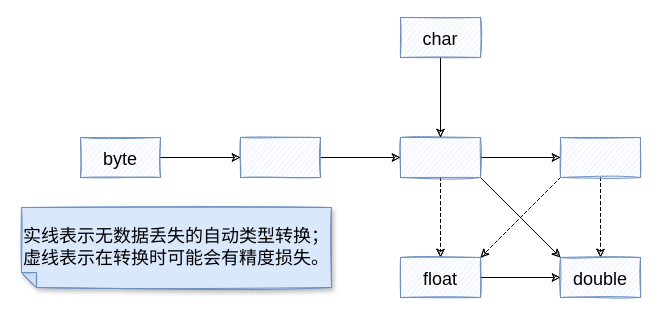
Image size: 658x315. Some labels were removed from this diagram. Each missing label, with the centre of its shape:
"int" belongs at pixel 440 157.
"long" belongs at pixel 600 157.
"short" belongs at pixel 280 157.
